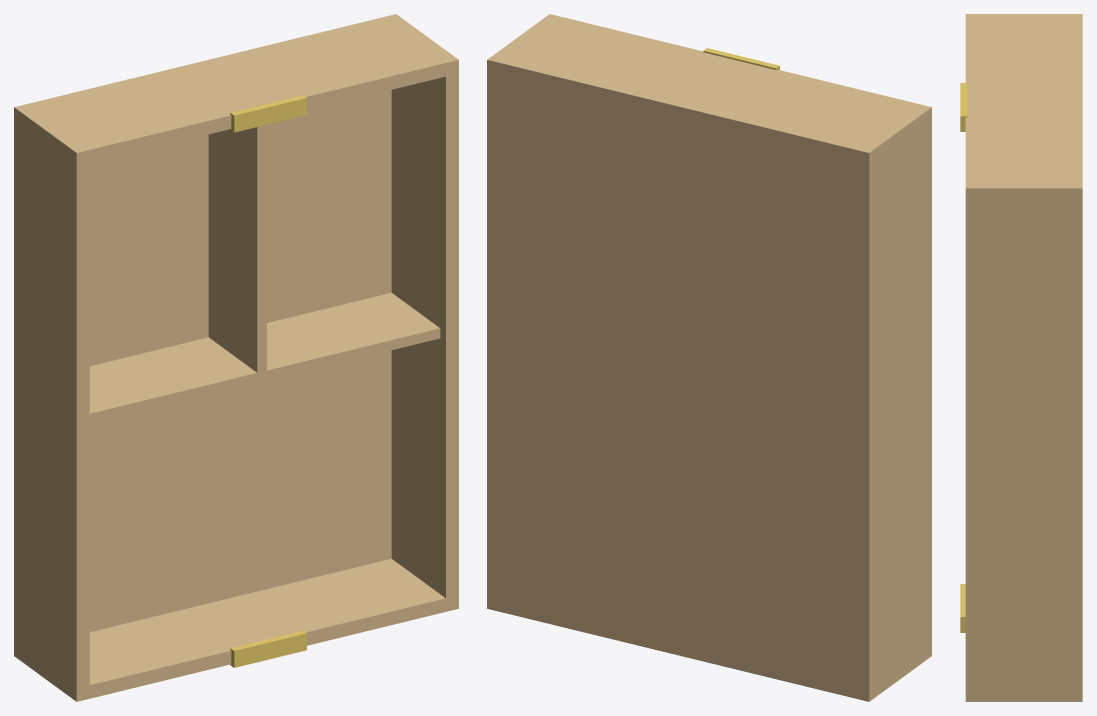
File: inner_tray.glb
3 views of the same model, side by side, from view 1: azimuth 30°, elevation 25°; view 2: azimuth 150°, elevation 25°; view 3: azimuth 270°, elevation 25° (orthographic). The views are drawn at different scales.
Parts seen in each view (by area): view 1: inner_tray.001; view 2: inner_tray.001; view 3: inner_tray.001.
Part boxes in pixels (x1,y1,x2,y2): inner_tray.001: (14,14,458,701); inner_tray.001: (487,14,931,701); inner_tray.001: (960,14,1082,701).
Bounding box in the file's own units: 0.236 × 0.326 × 0.07.
